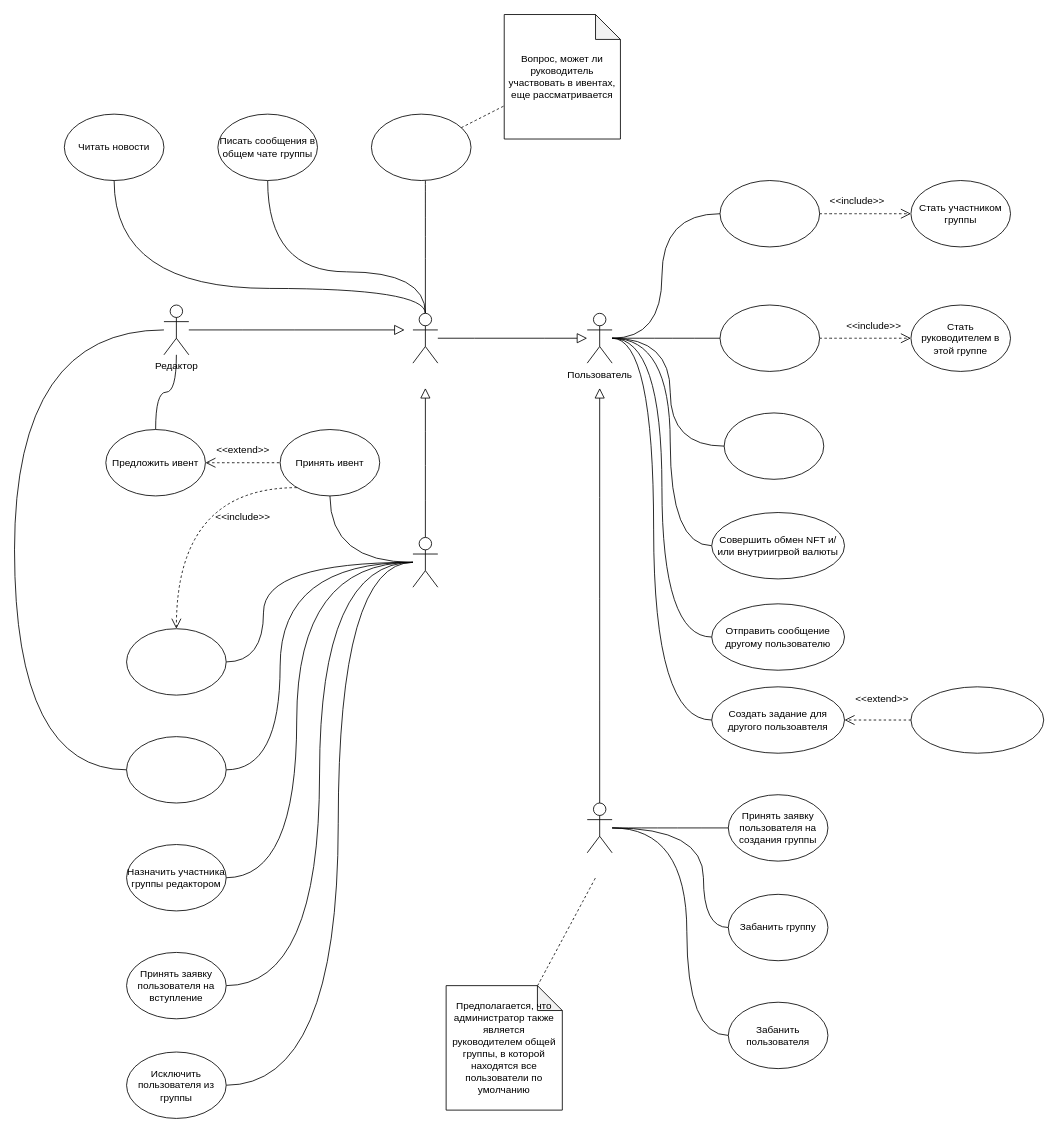
This 1058x1133 diagram has some shape labels left out. The shapes that lost their labels are listed below. From the top down, each one's box as (x1, y1, x2, y2) in pixels, then its label:
(371, 113, 471, 181): Участвовать в ивентах
(719, 180, 820, 247): Вступить в группу
(412, 312, 438, 363): Участник группы
(719, 304, 820, 371): Создать группу
(723, 412, 824, 479): Создать NFT
(412, 537, 438, 587): Руководитель
(126, 628, 226, 695): Опубликовать ивент
(910, 686, 1044, 753): Засчитать задание выполненным
(126, 736, 226, 803): Опубликовать новость
(586, 802, 612, 853): Администратор
